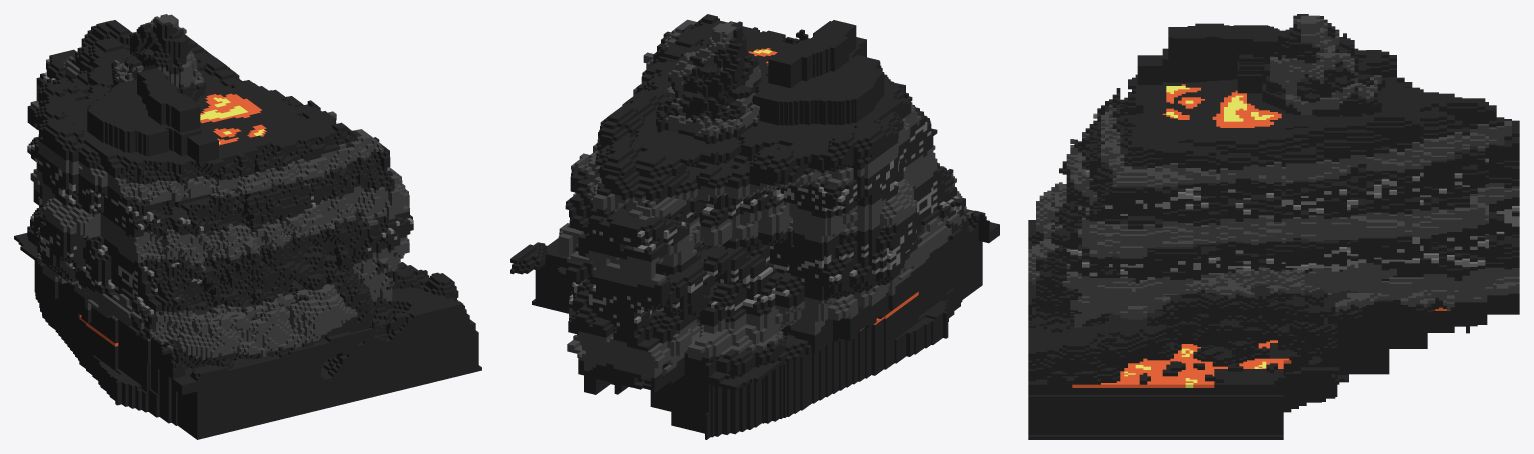
Rendered from Lava_stuff-13.obj.
3 renders of one model, left to right at view 1: azimuth 30°, elevation 25°; view 2: azimuth 150°, elevation 25°; view 3: azimuth 270°, elevation 25°, orthographic. The views are drawn at different scales.
Bounding box in the file's own units: 20.8 × 18.6 × 25.6.
1 material, 1 textured.
